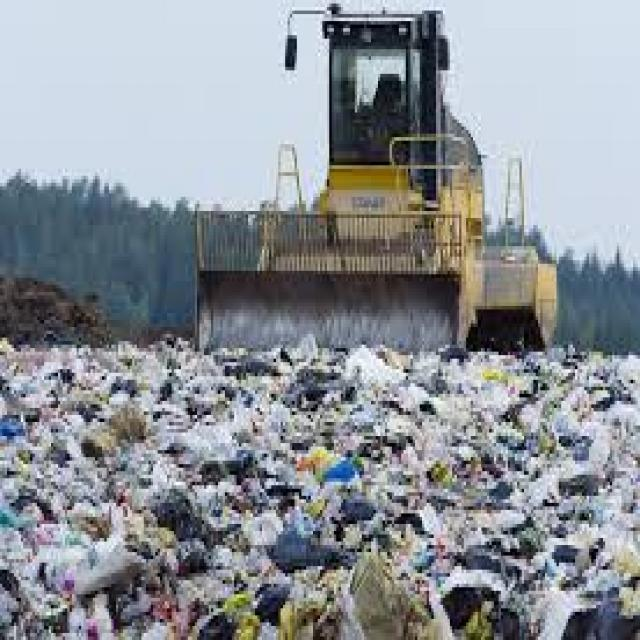heap: (27, 341, 609, 640)
